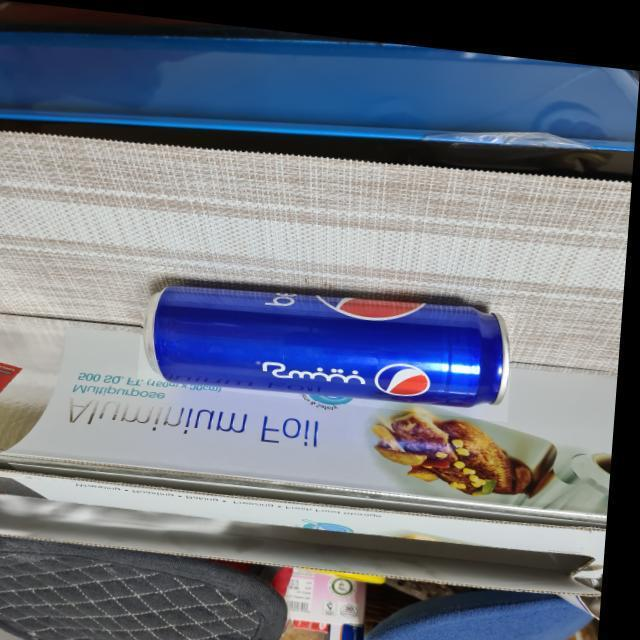trash: (138, 280, 510, 408)
